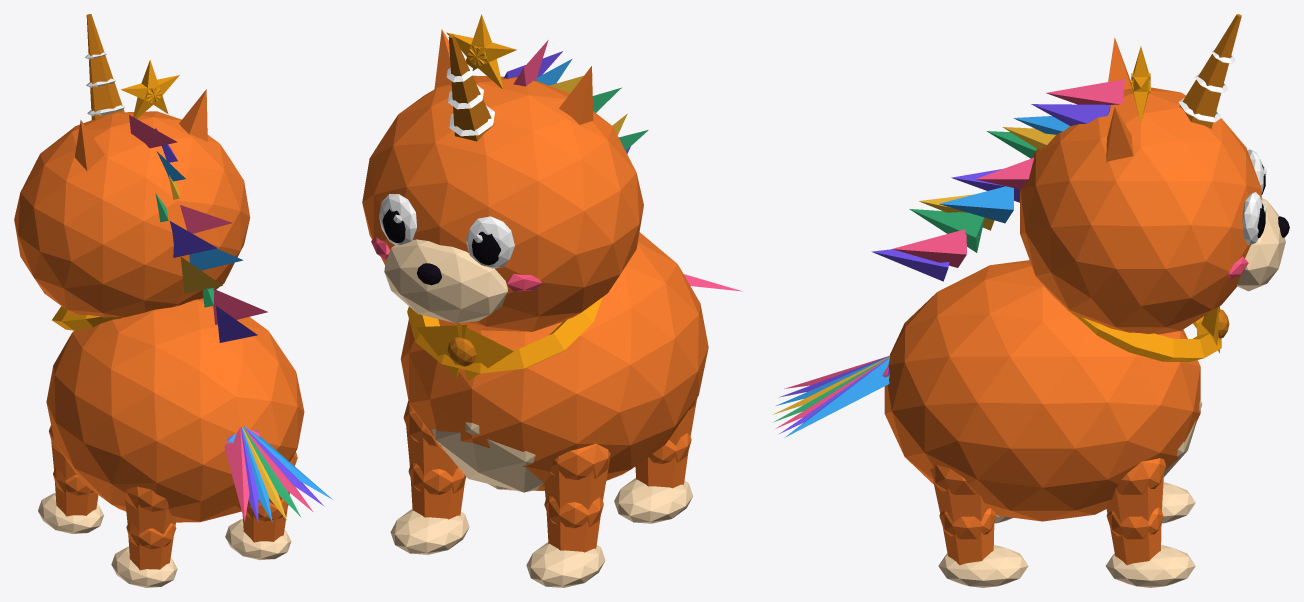
The model's file is meteor_unicorn.obj.
The picture shows the model from 3 angles, left to right: view 1: azimuth 30°, elevation 25°; view 2: azimuth 150°, elevation 25°; view 3: azimuth 270°, elevation 25°; orthographic projection. The views are drawn at different scales.
Parts seen in each view (by area): view 1: Body_1_m1, Head_2_m3, Head_2_m23, Head_2_m24, Head_2_m22, Leg3Lo_8_m17, Body_1_m28, Leg3Up_7_m16, Leg1Lo_4_m11, Leg1Lo_4_m12, Leg4Lo_10_m21, Leg3Lo_8_m18 (+11 smaller); view 2: Head_2_m3, Body_1_m1, Head_2_m4, Body_1_m34, Body_1_m2, Head_2_m6, Leg1Up_3_m10, Leg1Lo_4_m12, Leg2Lo_6_m15, Leg3Lo_8_m18, Leg1Lo_4_m11, Leg2Lo_6_m14 (+9 smaller); view 3: Body_1_m1, Head_2_m3, Head_2_m23, Body_1_m34, Head_2_m24, Leg2Up_5_m13, Leg4Lo_10_m21, Leg2Lo_6_m15, Leg2Lo_6_m14, Leg4Lo_10_m20, Head_2_m22, Head_2_m4 (+10 smaller).
Part boxes in pixels (x1,y1,x2,y2): Body_1_m1: (46, 298, 304, 522); Head_2_m3: (14, 89, 250, 317); Head_2_m23: (129, 115, 267, 324); Head_2_m24: (155, 128, 257, 342); Head_2_m22: (86, 14, 124, 119); Leg3Lo_8_m17: (126, 522, 176, 570); Body_1_m28: (224, 427, 312, 521); Leg3Up_7_m16: (125, 486, 176, 534); Leg1Lo_4_m11: (53, 468, 98, 516); Leg1Lo_4_m12: (38, 493, 103, 533); Leg4Lo_10_m21: (225, 519, 291, 560); Leg3Lo_8_m18: (111, 546, 177, 587); Head_2_m3: (362, 29, 643, 331); Body_1_m1: (400, 232, 708, 490); Head_2_m4: (384, 239, 508, 323); Body_1_m34: (407, 297, 602, 381); Body_1_m2: (431, 422, 543, 492); Head_2_m6: (379, 64, 514, 268); Leg1Up_3_m10: (544, 443, 610, 509); Leg1Lo_4_m12: (526, 542, 605, 587); Leg2Lo_6_m15: (390, 509, 469, 554); Leg3Lo_8_m18: (614, 478, 692, 523); Leg1Lo_4_m11: (544, 496, 603, 552); Leg2Lo_6_m14: (408, 463, 466, 519); Body_1_m1: (884, 260, 1200, 521); Head_2_m3: (1020, 37, 1261, 334); Head_2_m23: (892, 79, 1124, 267); Body_1_m34: (1067, 306, 1221, 362); Head_2_m24: (871, 104, 1110, 281); Leg2Up_5_m13: (1106, 458, 1165, 522); Leg4Lo_10_m21: (938, 545, 1028, 587); Leg2Lo_6_m15: (1106, 545, 1195, 587); Leg2Lo_6_m14: (1106, 507, 1163, 565); Leg4Lo_10_m20: (939, 508, 995, 565); Head_2_m22: (1179, 14, 1241, 128); Head_2_m4: (1237, 198, 1285, 291).
Bounding box in the file's own units: 1.41 × 3.01 × 2.63.
